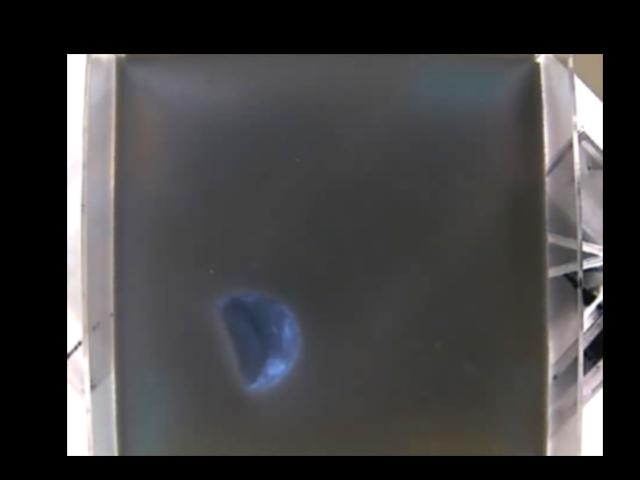Mooli: (219, 291, 300, 392)
